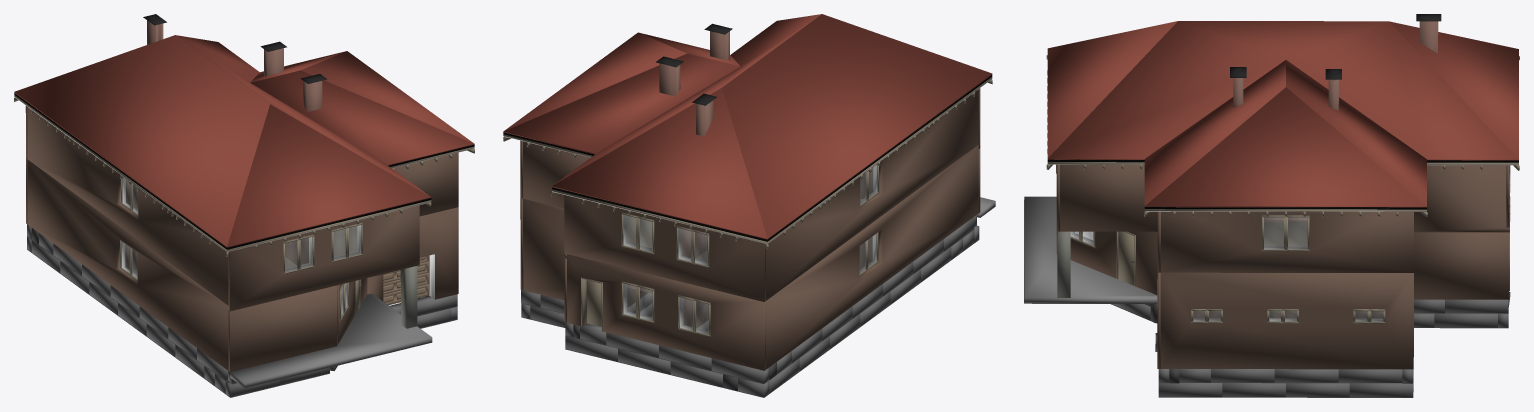
Rendered from haus.dae.
3 renders of one model, left to right at view 1: azimuth 30°, elevation 25°; view 2: azimuth 150°, elevation 25°; view 3: azimuth 270°, elevation 25°, orthographic. The views are drawn at different scales.
Visible parts, largest first — view 1: node_2d1e2475_4186_4bc6_a7e0_29a66df6311f_mesh0; view 2: node_2d1e2475_4186_4bc6_a7e0_29a66df6311f_mesh0; view 3: node_2d1e2475_4186_4bc6_a7e0_29a66df6311f_mesh0.
Boxes of the visible parts, bbox=[...] form: node_2d1e2475_4186_4bc6_a7e0_29a66df6311f_mesh0: bbox=[14, 14, 474, 397]; node_2d1e2475_4186_4bc6_a7e0_29a66df6311f_mesh0: bbox=[503, 14, 995, 397]; node_2d1e2475_4186_4bc6_a7e0_29a66df6311f_mesh0: bbox=[1024, 14, 1519, 397].
Bounding box in the file's own units: 141 × 187 × 118.
